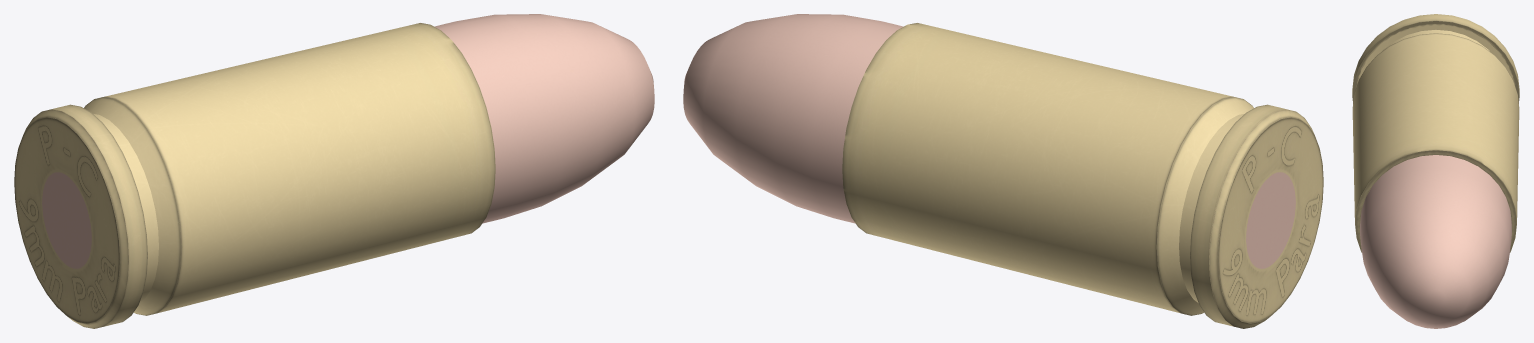
File: sceneapp.gltf
3 renders of one model, left to right at view 1: azimuth 30°, elevation 25°; view 2: azimuth 150°, elevation 25°; view 3: azimuth 270°, elevation 25°, orthographic. The views are drawn at different scales.
Parts seen in each view (by area): view 1: Cartridge_LowPoly_32Segments_Export; view 2: Cartridge_LowPoly_32Segments_Export; view 3: Cartridge_LowPoly_32Segments_Export.
Part boxes in pixels (left/top/right/bottom): Cartridge_LowPoly_32Segments_Export: left=14, top=14, right=654, bottom=328; Cartridge_LowPoly_32Segments_Export: left=683, top=14, right=1323, bottom=328; Cartridge_LowPoly_32Segments_Export: left=1352, top=14, right=1519, bottom=328.
Size of the model in its own units: 2.97 by 0.996 by 0.996.
1 material, 1 textured.
